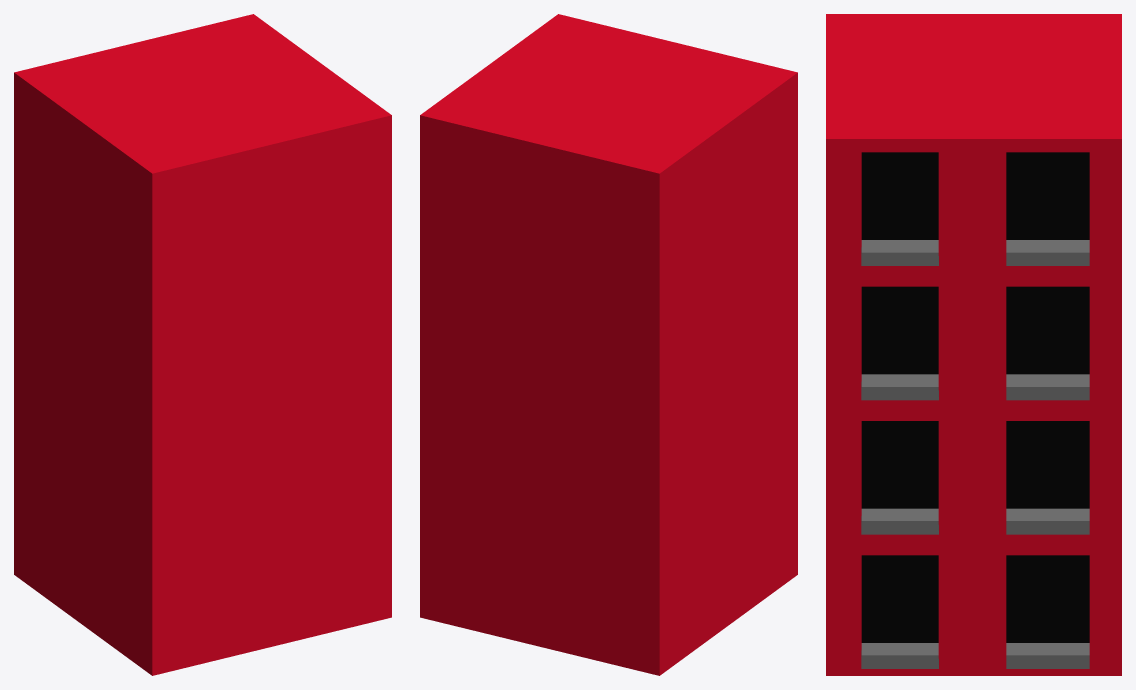
Rendered from house.fbx.
The picture shows the model from 3 angles, left to right: view 1: azimuth 30°, elevation 25°; view 2: azimuth 150°, elevation 25°; view 3: azimuth 270°, elevation 25°; orthographic projection. The views are drawn at different scales.
Visible parts, largest first — view 1: house; view 2: house; view 3: house.
Boxes of the visible parts, left/top/right/bottom form: house: left=14, top=14, right=391, bottom=675; house: left=420, top=14, right=797, bottom=675; house: left=826, top=14, right=1121, bottom=675.
Bounding box in the file's own units: 20.97 × 40 × 19.97.
